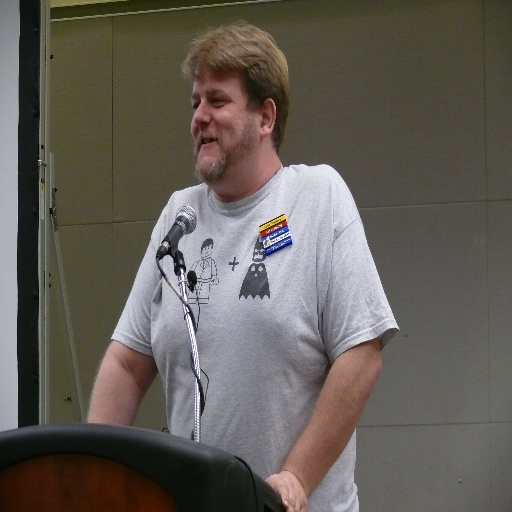hand: (272, 423, 314, 502)
